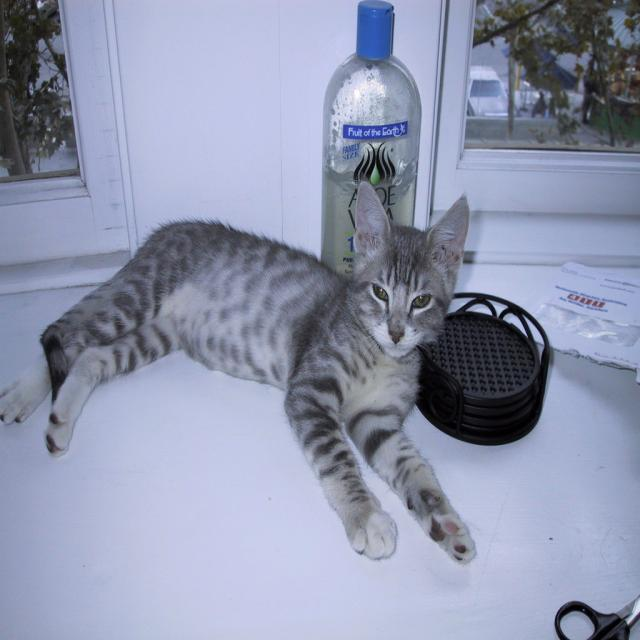Cat: (0, 176, 477, 567)
